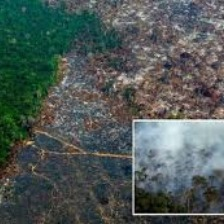incendio: (148, 146, 200, 204)
